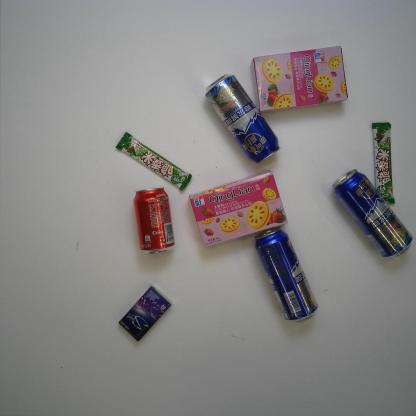Alcohol: (332, 168, 414, 258), (204, 73, 280, 165), (254, 226, 319, 323)
Chocolate: (116, 131, 192, 191), (372, 122, 395, 204)
Dessert: (188, 170, 288, 248), (252, 45, 348, 113)
Drink: (133, 186, 176, 256)
Gum: (119, 285, 171, 343)
